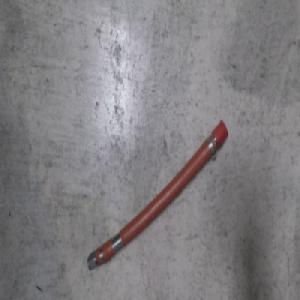Hose: (86, 117, 226, 272)
